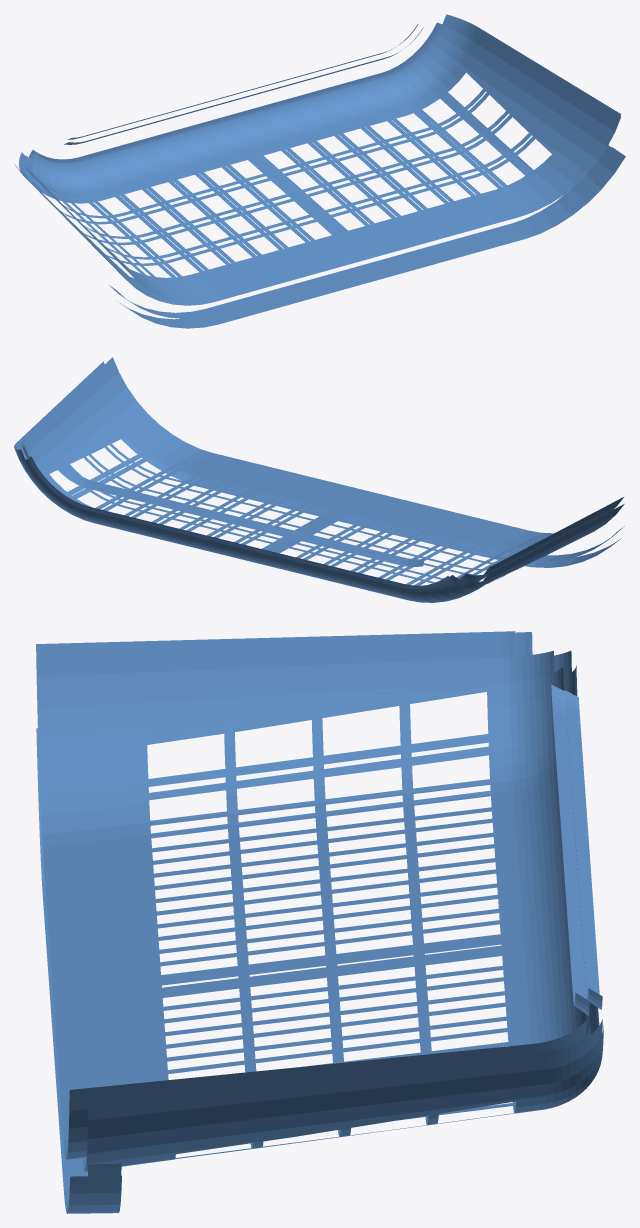
Rendered from large_basket_wall.dae.
3 views of the same model, one above another, from view 1: azimuth 30°, elevation 25°; view 2: azimuth 150°, elevation 25°; view 3: azimuth 270°, elevation 25° (orthographic). The views are drawn at different scales.
Visible parts, largest first — view 1: skpC84F (×6); view 2: skpC84F (×6); view 3: skpC84F (×10).
Boxes of the visible parts, left/top/right/bottom form: skpC84F (×6): left=15, top=14, right=625, bottom=328; skpC84F (×6): left=14, top=357, right=624, bottom=602; skpC84F (×10): left=36, top=631, right=603, bottom=1213.
Bounding box in the file's own units: 22.32 × 4.9 × 10.68.
